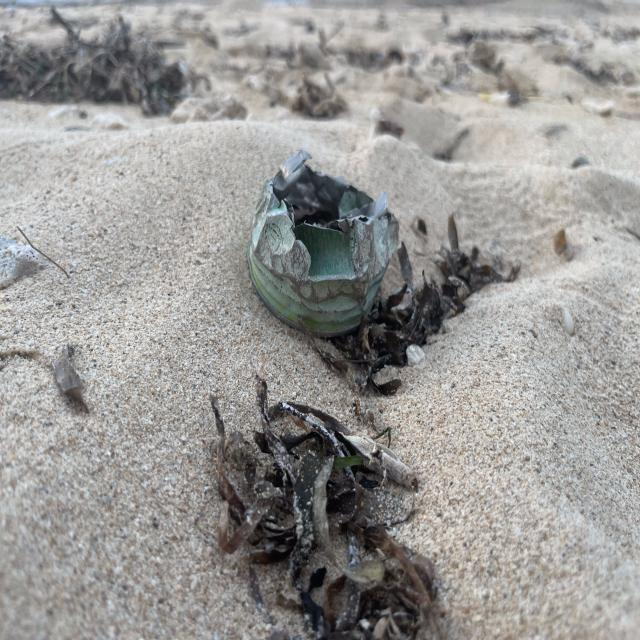seaweed: (192, 371, 441, 636)
trash: (238, 143, 410, 346)
